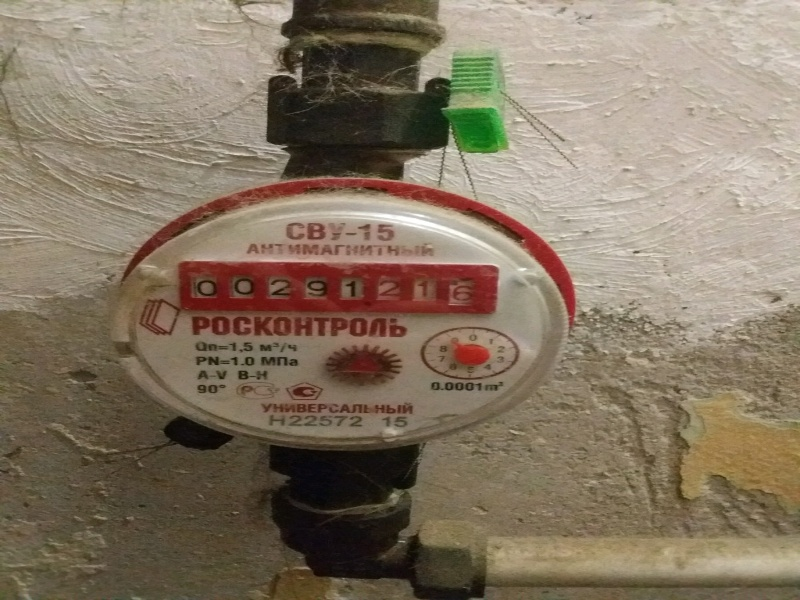meter: (181, 263, 484, 312)
